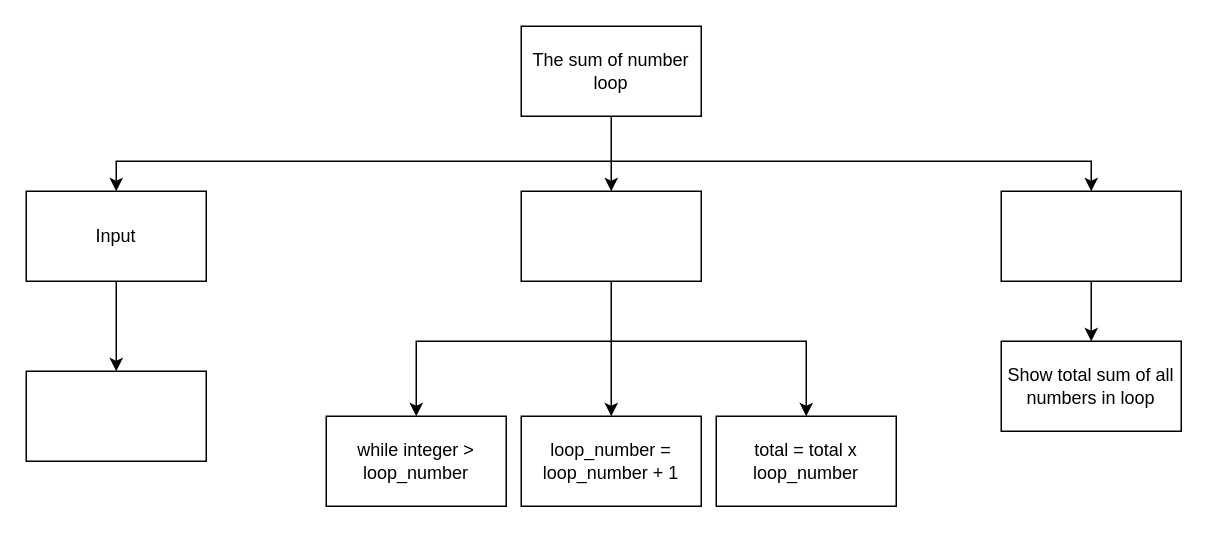
Some shapes in this 1208 by 533 pixel diagram are drawn without their labels. The centre of each missing label's shape, as x and y in pixels:
"Enter your number" goes at pixel 115 415.
"Output" goes at pixel 1090 235.
"Process" goes at pixel 610 235.
